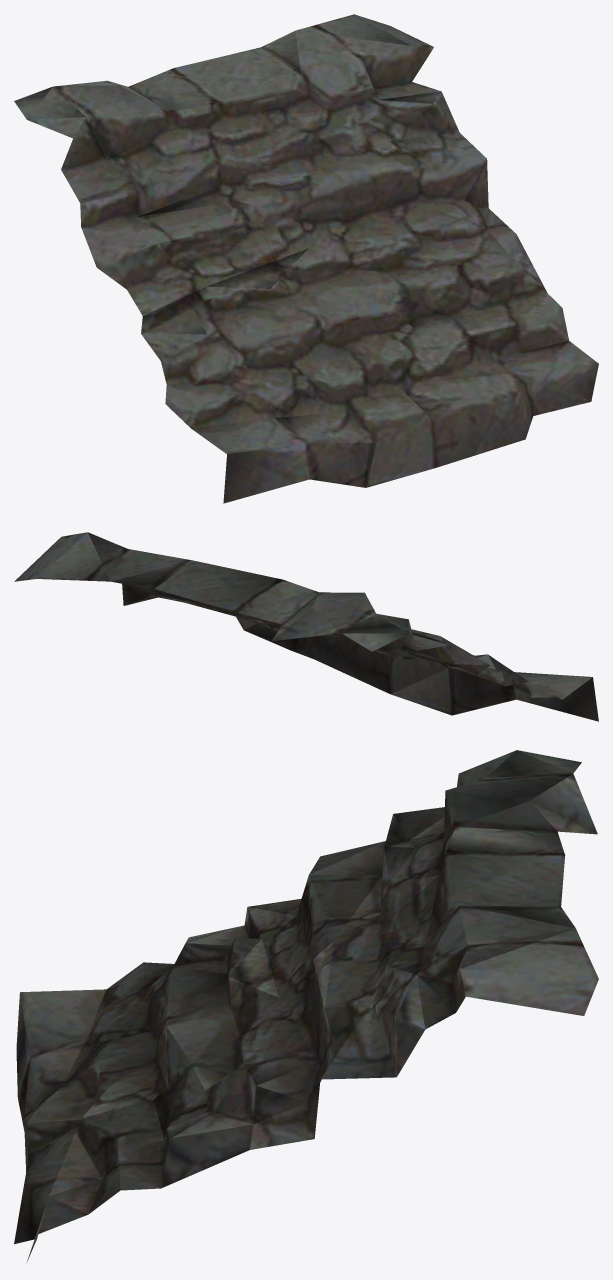
The model's file is S_Build_Desert119_3.FBX.
3 views of the same model, one above another, from view 1: azimuth 30°, elevation 25°; view 2: azimuth 150°, elevation 25°; view 3: azimuth 270°, elevation 25° (orthographic). The views are drawn at different scales.
Parts seen in each view (by area): view 1: S_Build_Desert119_3; view 2: S_Build_Desert119_3; view 3: S_Build_Desert119_3.
Part boxes in pixels (x1,y1,x2,y2): S_Build_Desert119_3: [14, 14, 598, 503]; S_Build_Desert119_3: [14, 532, 598, 721]; S_Build_Desert119_3: [14, 750, 598, 1262].
Size of the model in its own units: 476 by 479 by 307.
Materials: 1 (1 with a texture image).
